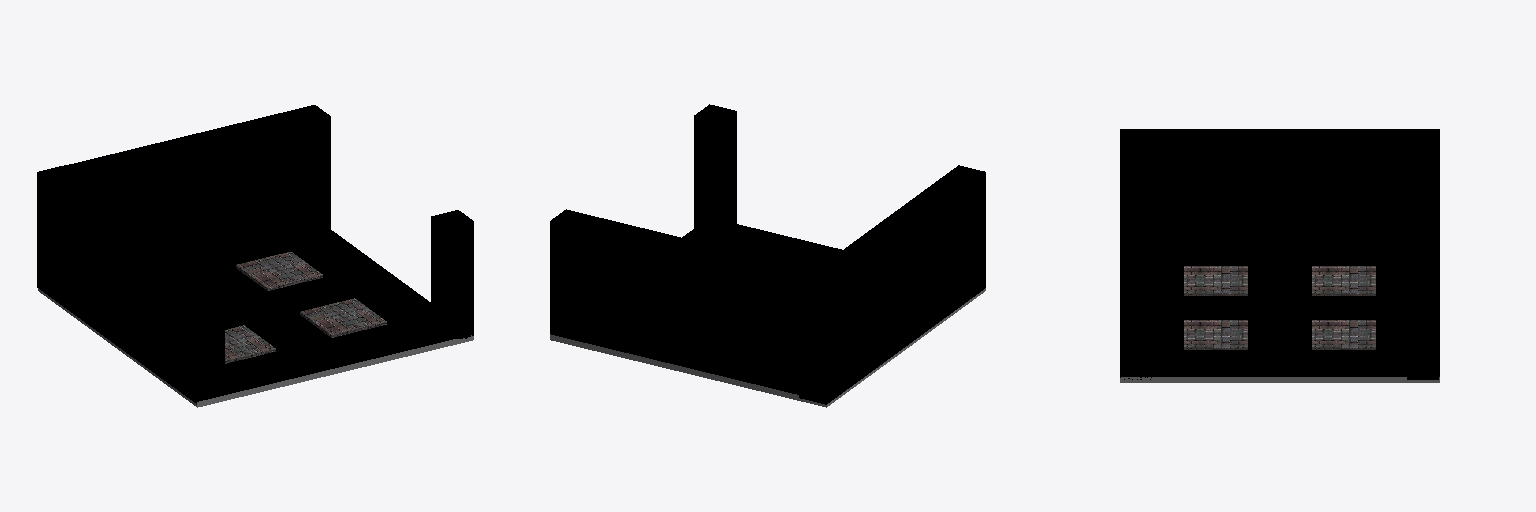
The picture shows the model from 3 angles: view 1: azimuth 30°, elevation 25°; view 2: azimuth 150°, elevation 25°; view 3: azimuth 270°, elevation 25°; orthographic projection.
Visible parts, largest first — view 1: Ecke_Stein; view 2: Ecke_Stein; view 3: Ecke_Stein.
Part boxes in pixels (x1,y1,x2,y2): Ecke_Stein: (37,105,473,407); Ecke_Stein: (550,104,985,407); Ecke_Stein: (1120,129,1439,382).
Bounding box in the file's own units: 5 × 2.05 × 5.
Materials: 10 (1 with a texture image).